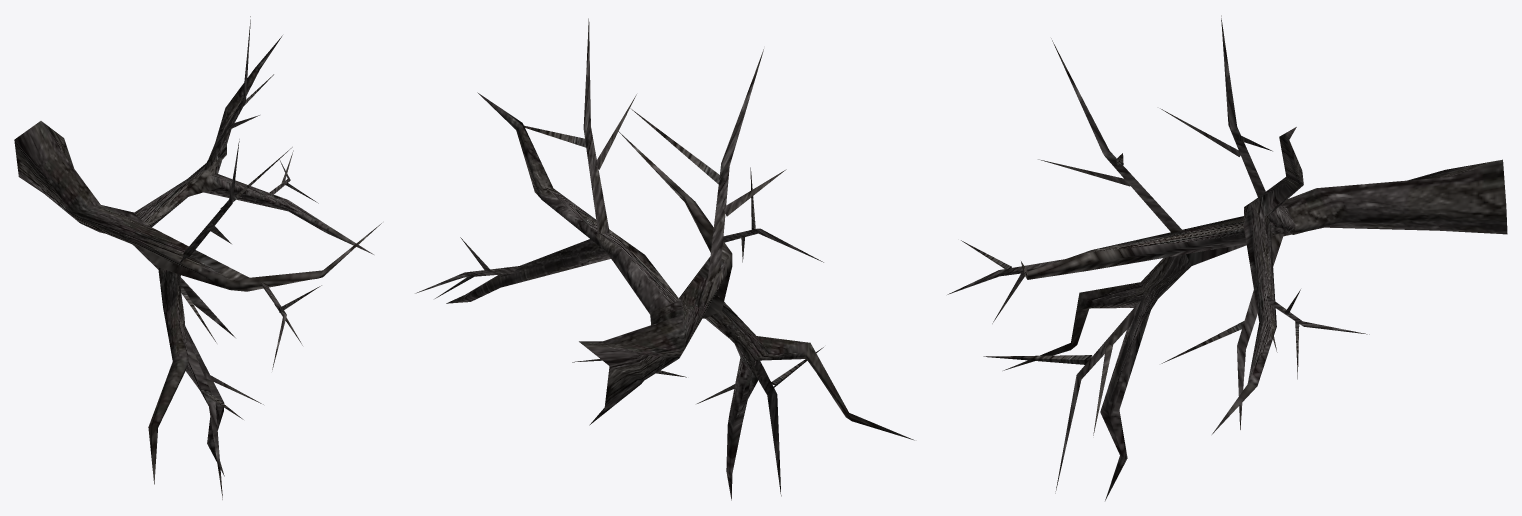
The model's file is Tree04.glb.
3 renders of one model, left to right at view 1: azimuth 30°, elevation 25°; view 2: azimuth 150°, elevation 25°; view 3: azimuth 270°, elevation 25°, orthographic. The views are drawn at different scales.
Parts seen in each view (by area): view 1: model_Tree04; view 2: model_Tree04; view 3: model_Tree04.
Boxes of the visible parts, x1,y1,x2,y2 form: model_Tree04: [14, 16, 381, 499]; model_Tree04: [415, 18, 914, 500]; model_Tree04: [947, 15, 1507, 500].
Size of the model in its own units: 4.01 by 5.3 by 5.
1 material, 1 textured.
